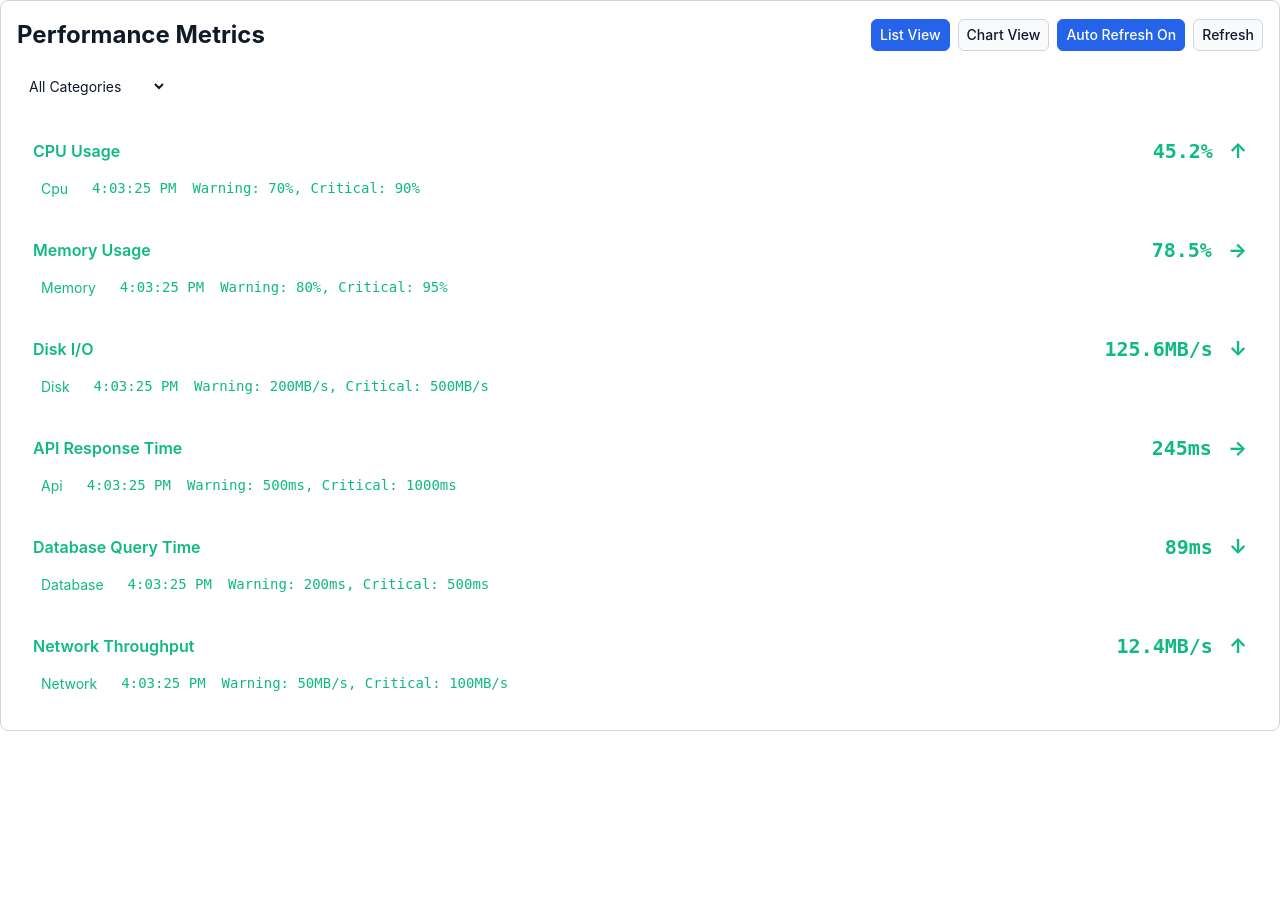
Scenario: PerformanceMetrics Component › closes metric details when close button is clicked
Check: the heading "Performance Metrics" is shown, box [17,17,265,53]
Click on a metric item
Click the text "CPU Usage" at (77, 151), box [33,136,1247,166]
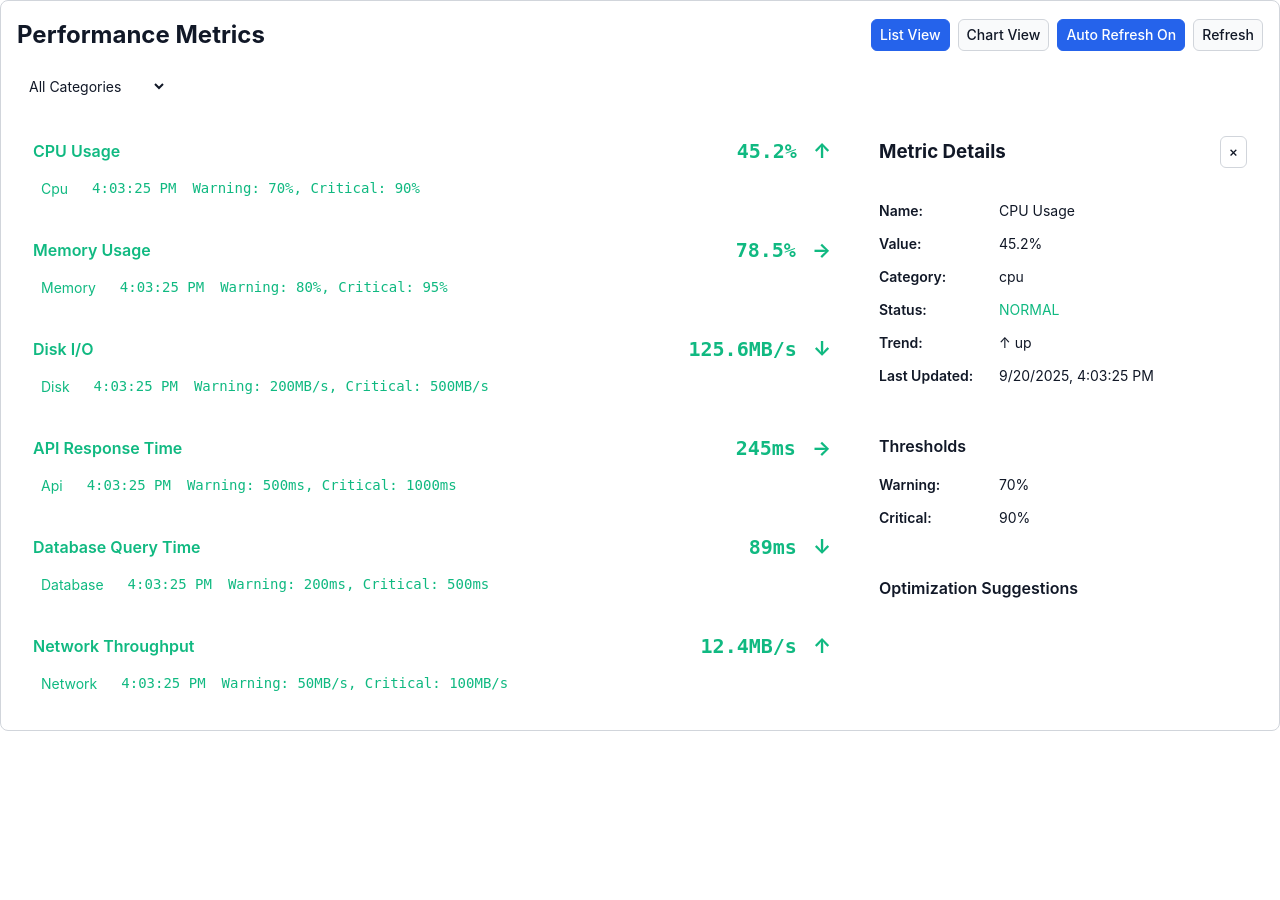
Check: the heading "Metric Details" is shown, box [879,138,1006,166]
Click close button
Click the button "×" at (1233, 152), box [1220,136,1247,168]
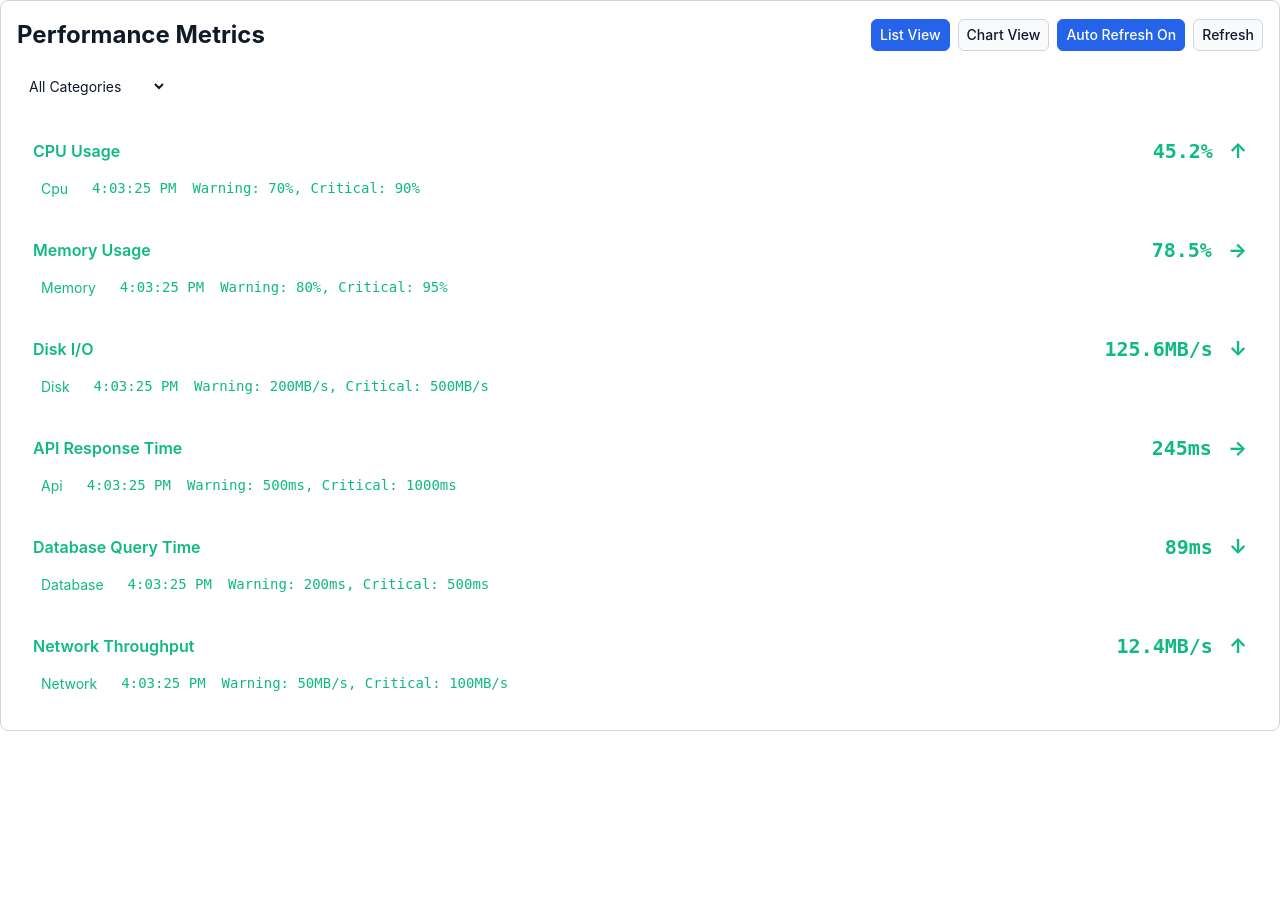
Check: the heading "Metric Details" is gone
